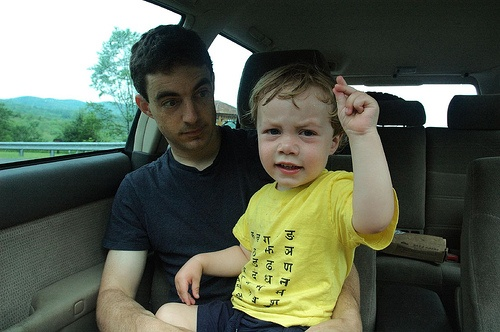head: (129, 22, 224, 161), (252, 66, 342, 189)
person: (175, 65, 400, 332), (95, 14, 247, 332)
